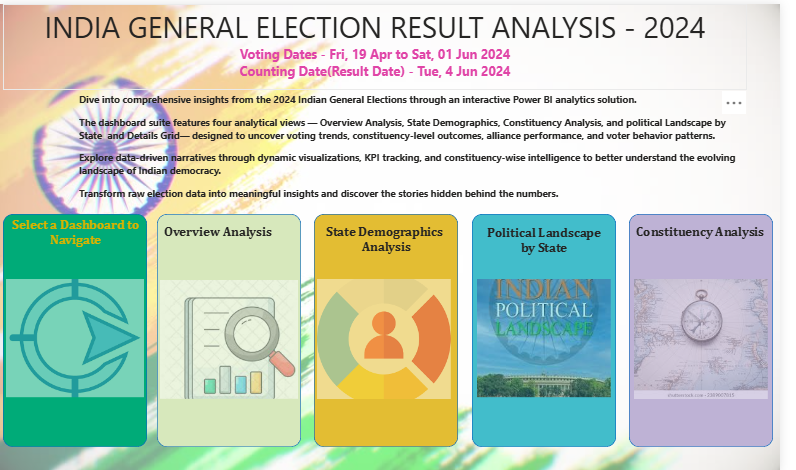

What the dashboard file says about the page in this screenshot:
{"tool":"powerbi","page":{"name":"Landing Page","canvas":[1300,780],"ordinal":0},"visuals":[{"type":"textbox","box":[5,0,1240,143.3],"z":0},{"type":"textbox","box":[126.7,143.3,1123.3,190],"z":1000},{"type":"shape","box":[5,350,240,388.3],"z":2000},{"type":"shape","box":[261.7,350,240,388.3],"z":3000},{"type":"shape","box":[523.3,350,240,388.3],"z":4000},{"type":"shape","box":[786.7,350,240,388.3],"z":5000},{"type":"shape","box":[1048.3,350,240,388.3],"z":6000},{"type":"textbox","box":[13.3,350,225,83.3],"z":7000},{"type":"textbox","box":[793.3,363.3,226.7,70],"z":8000},{"type":"textbox","box":[530,361.7,226.7,70],"z":9000},{"type":"textbox","box":[268.3,361.7,226.7,55],"z":10000},{"type":"textbox","box":[1055,361.7,226.7,55],"z":11000},{"type":"image","box":[5,453.3,240,206.7],"z":12000},{"type":"image","box":[261.7,455,240,208.3],"z":13000},{"type":"image","box":[523.3,453.3,233.3,210],"z":14000},{"type":"image","box":[790,453.3,233.3,206.7],"z":15000},{"type":"image","box":[1051.7,453.3,233.3,210],"z":16000}]}

Visuals, with their boxes in screenshot pixels (x1, y1, x2, y2), scaled from the page's 1300x780 canvas onto the 796x470 screenshot:
textbox: (left=3, top=0, right=762, bottom=86)
textbox: (left=78, top=86, right=765, bottom=201)
shape: (left=3, top=211, right=150, bottom=445)
shape: (left=160, top=211, right=307, bottom=445)
shape: (left=320, top=211, right=467, bottom=445)
shape: (left=482, top=211, right=629, bottom=445)
shape: (left=642, top=211, right=789, bottom=445)
textbox: (left=8, top=211, right=146, bottom=261)
textbox: (left=486, top=219, right=625, bottom=261)
textbox: (left=325, top=218, right=463, bottom=260)
textbox: (left=164, top=218, right=303, bottom=251)
textbox: (left=646, top=218, right=785, bottom=251)
image: (left=3, top=273, right=150, bottom=398)
image: (left=160, top=274, right=307, bottom=400)
image: (left=320, top=273, right=463, bottom=400)
image: (left=484, top=273, right=627, bottom=398)
image: (left=644, top=273, right=787, bottom=400)
